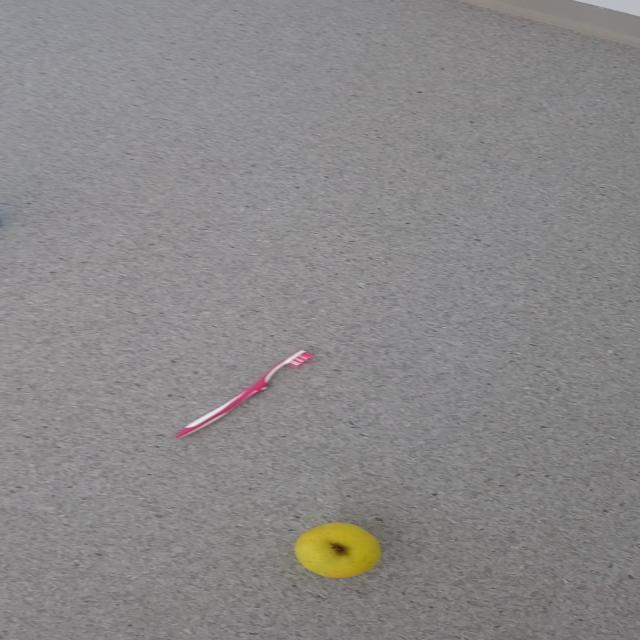apple: (293, 522, 382, 578)
toothbrush: (173, 349, 314, 439)
